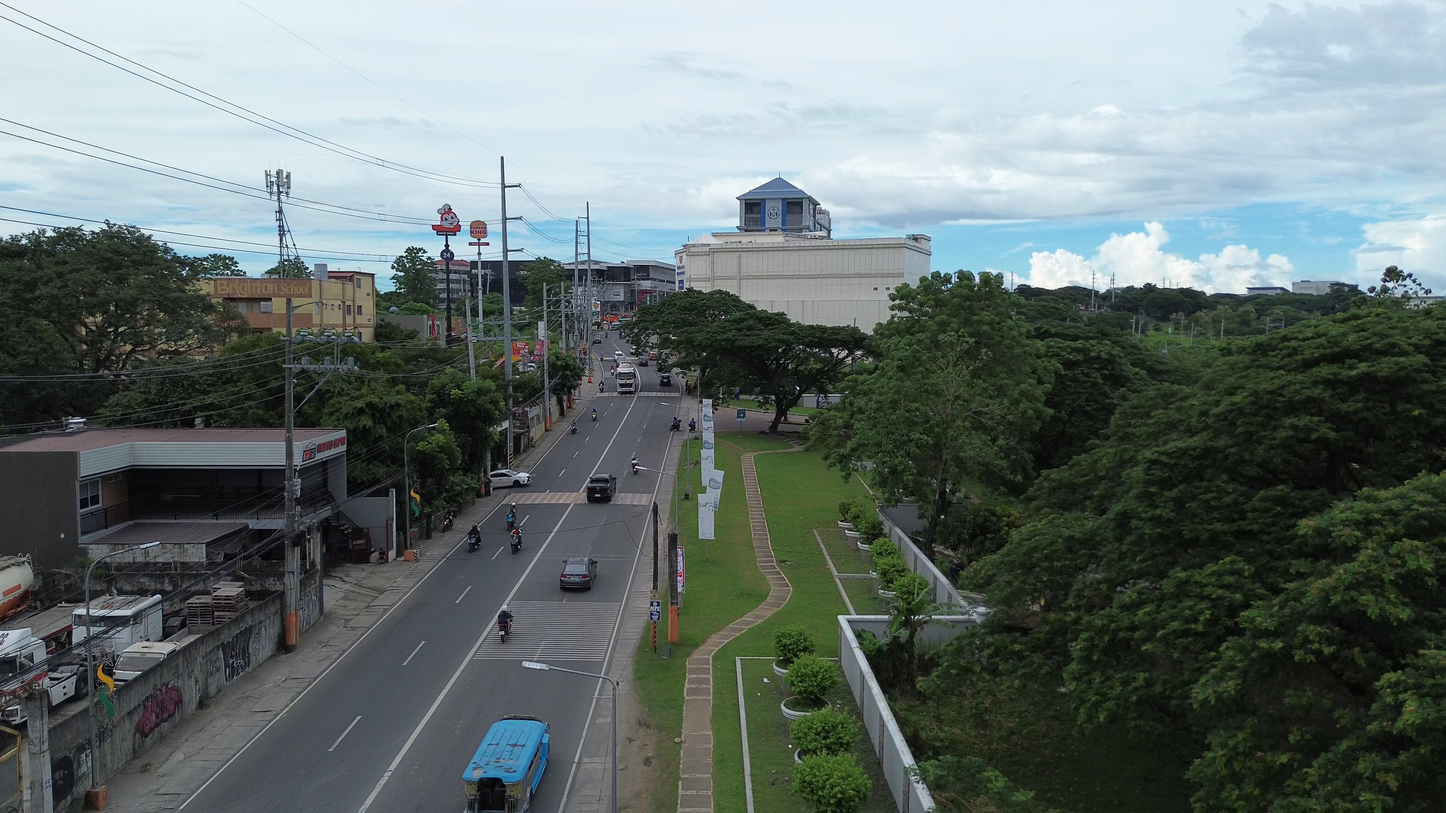car: (560, 557, 598, 589), (490, 469, 531, 487), (613, 351, 626, 362), (592, 336, 602, 344)
motorcycle: (497, 620, 511, 642), (510, 529, 522, 554), (442, 509, 455, 531), (467, 534, 481, 553), (670, 417, 681, 431), (631, 457, 639, 474), (591, 408, 598, 422), (569, 420, 576, 433)
truck: (0, 628, 80, 725)
vehicle: (462, 716, 549, 813), (73, 595, 163, 652), (113, 641, 180, 685), (0, 556, 34, 620), (586, 473, 617, 502), (616, 364, 638, 394), (510, 529, 522, 554), (658, 372, 671, 387), (613, 351, 626, 363), (670, 416, 680, 431), (637, 357, 650, 367), (591, 408, 598, 422), (647, 351, 657, 360)
